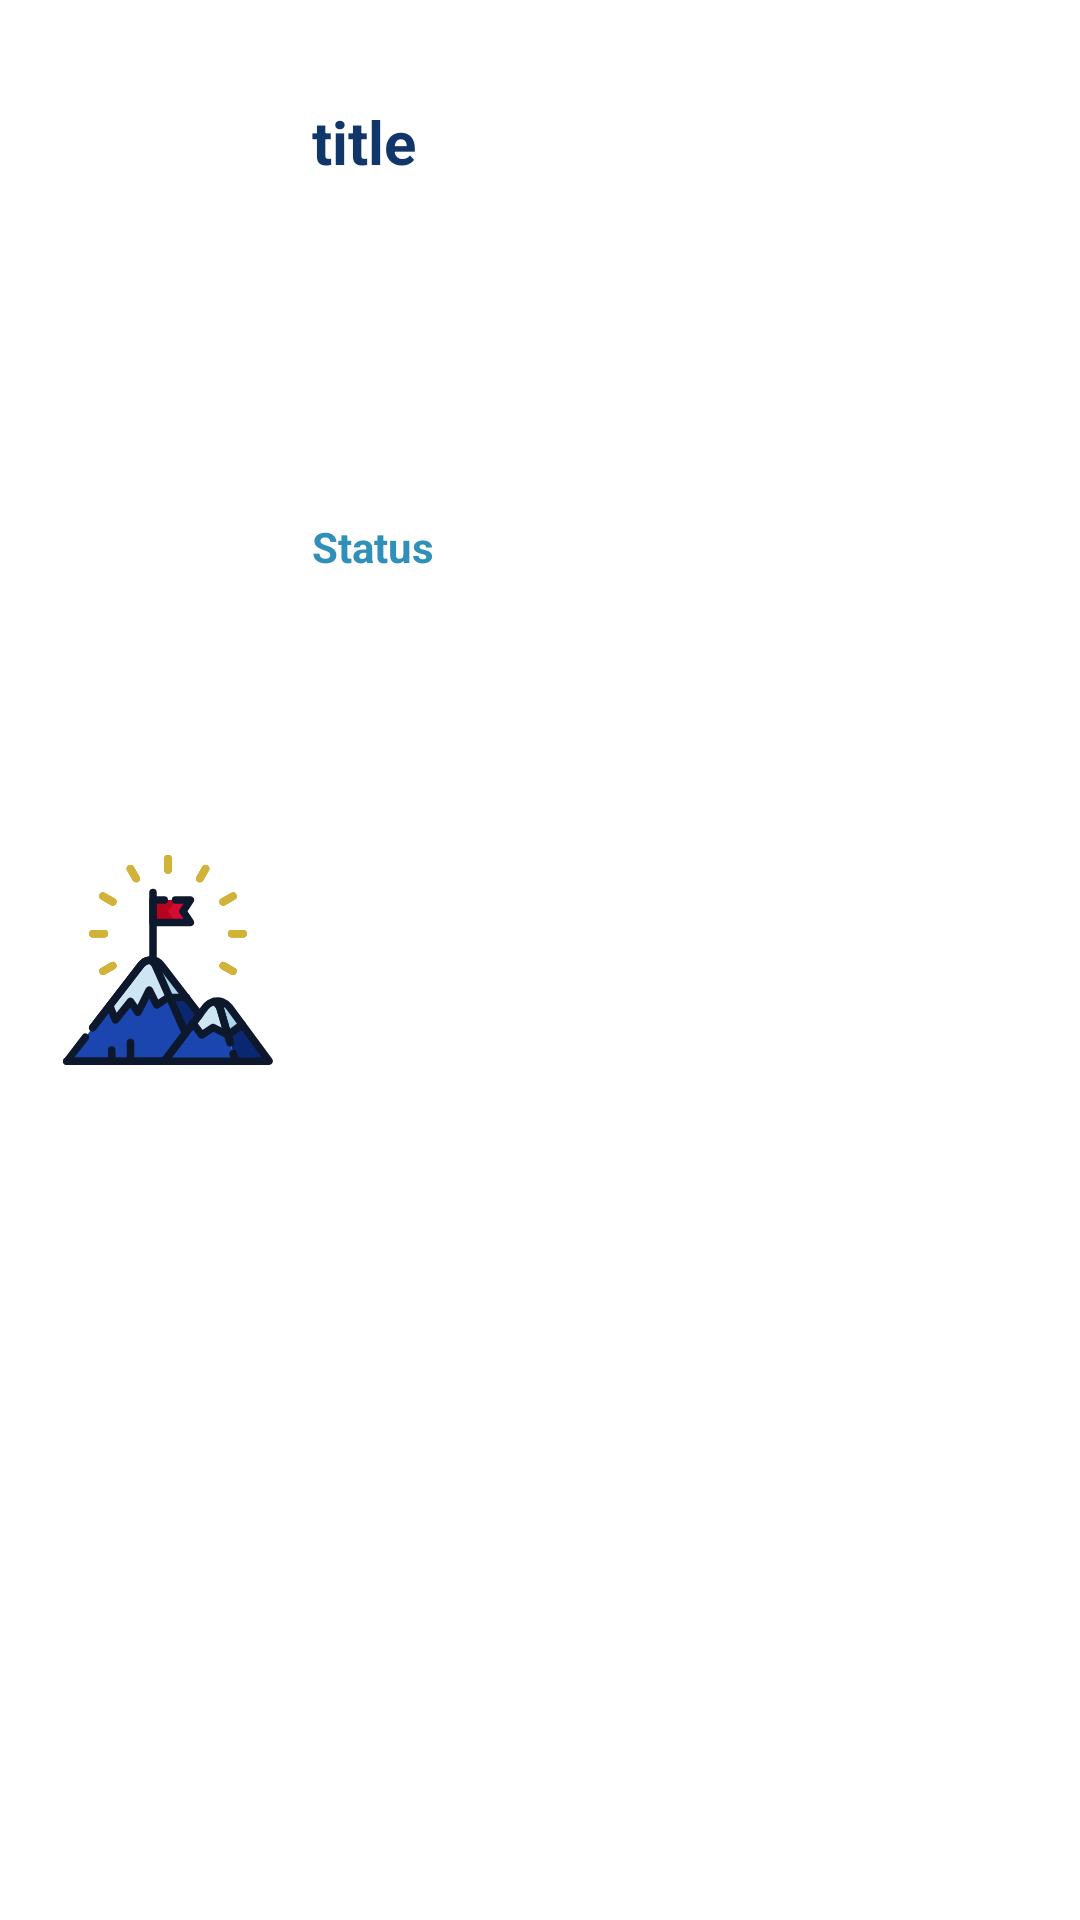

Screen size 1080 × 1920. Icon name, then its box in pixels as (x1, y1, x2, y2):
achievement: (63, 855, 273, 1065)
